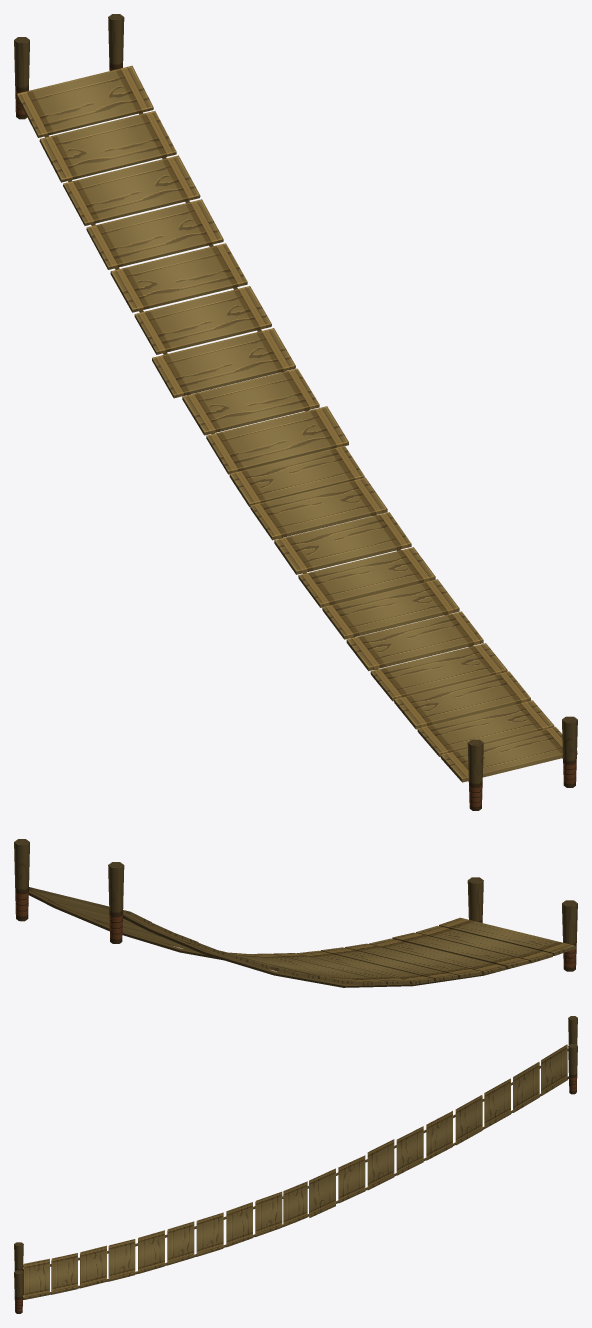
The model's file is Wooden_Bridge_02.FBX.
3 views of the same model, one above another, from view 1: azimuth 30°, elevation 25°; view 2: azimuth 150°, elevation 25°; view 3: azimuth 270°, elevation 25° (orthographic). The views are drawn at different scales.
Parts seen in each view (by area): view 1: Wooden_Bridge_02; view 2: Wooden_Bridge_02; view 3: Wooden_Bridge_02.
Boxes of the visible parts, x1,y1,x2,y2 form: Wooden_Bridge_02: [14, 14, 577, 810]; Wooden_Bridge_02: [14, 839, 577, 987]; Wooden_Bridge_02: [14, 1016, 577, 1313].
Bounding box in the file's own units: 46.07 × 151 × 289.
